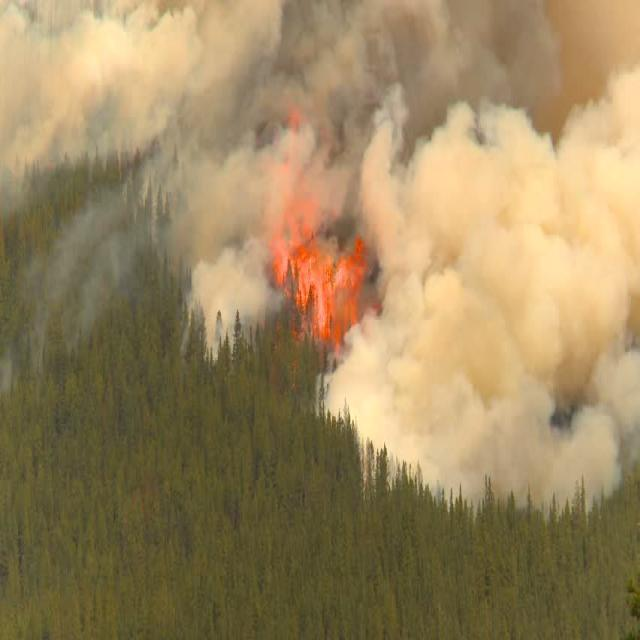Fire: (266, 194, 348, 343)
Smoke: (95, 22, 618, 472)
